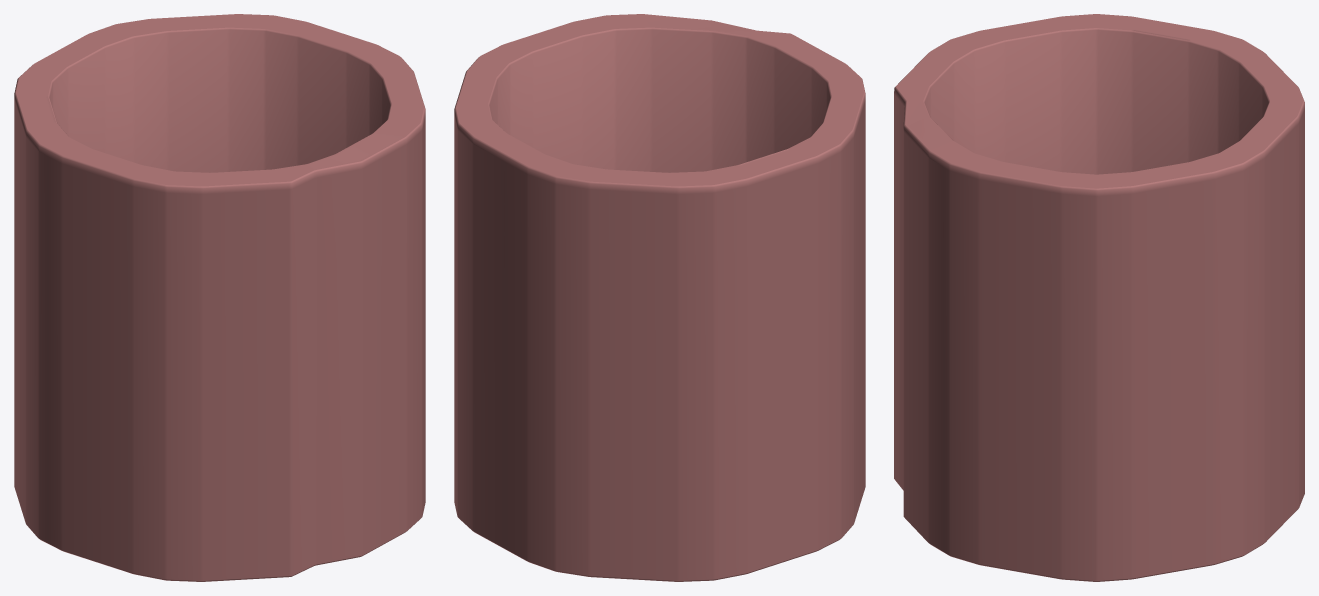
Rendered from garagegarbage.fbx.
3 renders of one model, left to right at view 1: azimuth 30°, elevation 25°; view 2: azimuth 150°, elevation 25°; view 3: azimuth 270°, elevation 25°, orthographic.
Visible parts, largest first — view 1: Garbage Can; view 2: Garbage Can; view 3: Garbage Can.
Boxes of the visible parts, <box> form: Garbage Can: <box>14,14,425,581</box>; Garbage Can: <box>454,14,865,581</box>; Garbage Can: <box>894,14,1304,581</box>.
Bounding box in the file's own units: 192 × 201 × 189.
